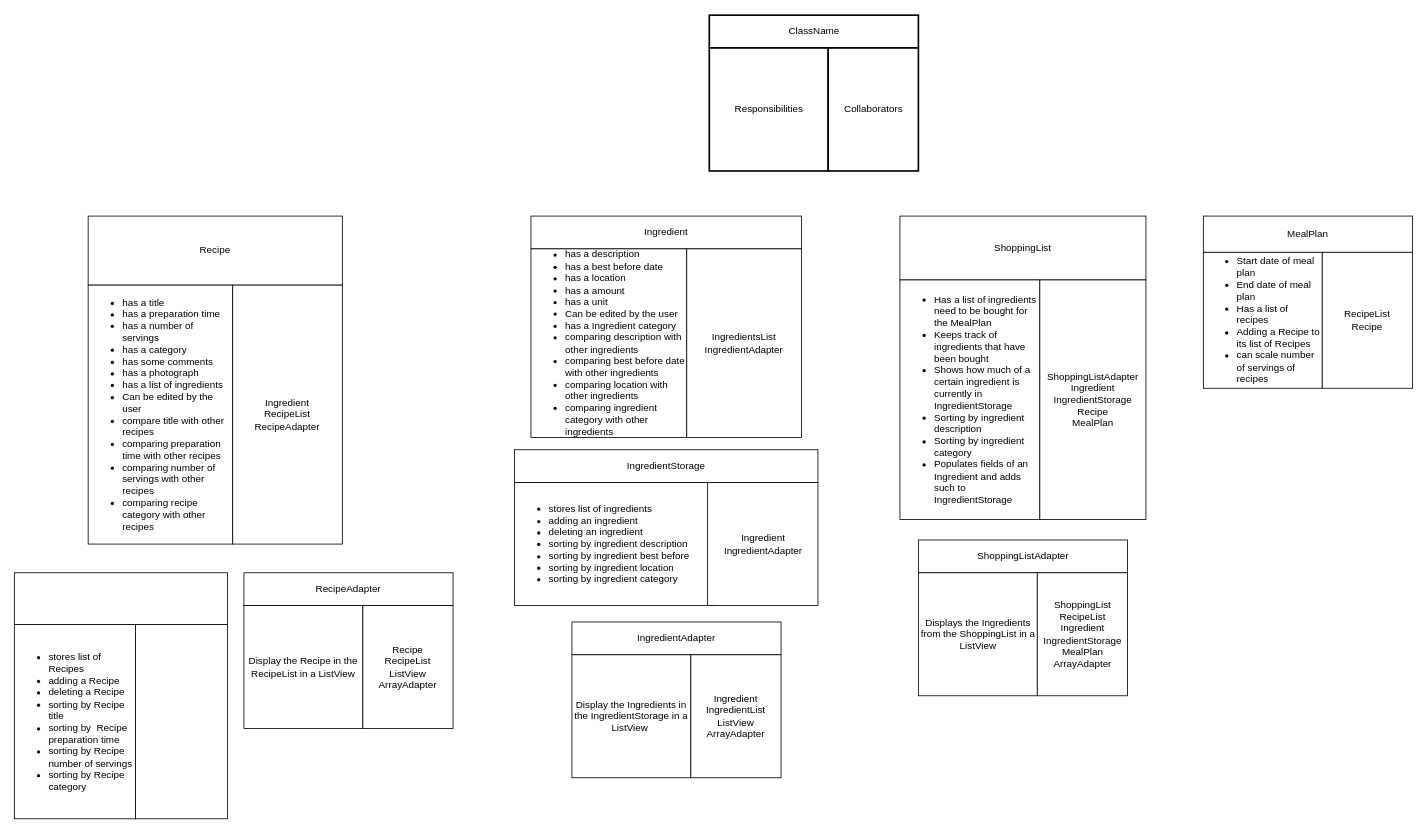
Some shapes in this 1427 by 833 pixel diagram are drawn without their labels. The box of each missing label's shape, as (x1, y1, x2, y2) in pixels:
Recipe RecipeAdapter Ingredient: (135, 624, 228, 819)
RecipeList: (14, 572, 228, 625)
